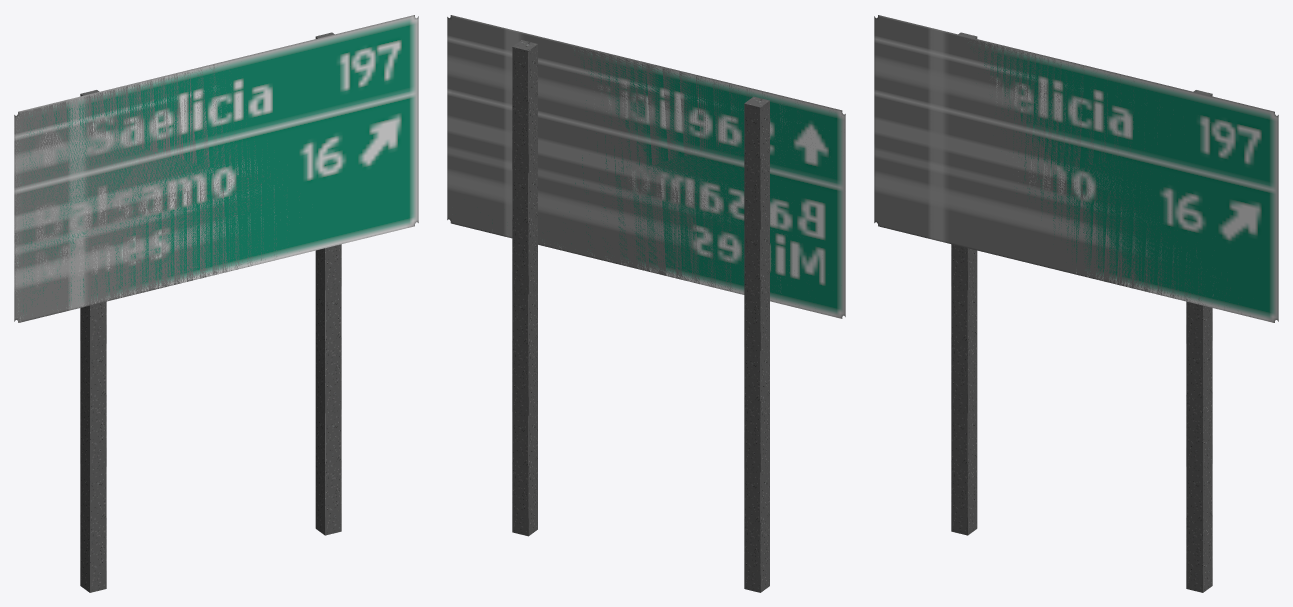
File: sign_direction.fbx
3 views of the same model, side by side, from view 1: azimuth 30°, elevation 25°; view 2: azimuth 150°, elevation 25°; view 3: azimuth 330°, elevation 25° (orthographic).
Parts seen in each view (by area): view 1: Plane; view 2: Plane; view 3: Plane.
Part boxes in pixels (x1,y1,x2,y2): Plane: [14, 15, 418, 592]; Plane: [447, 15, 845, 592]; Plane: [874, 15, 1278, 592].
Bounding box in the file's own units: 3.44 × 4.06 × 0.1507.
